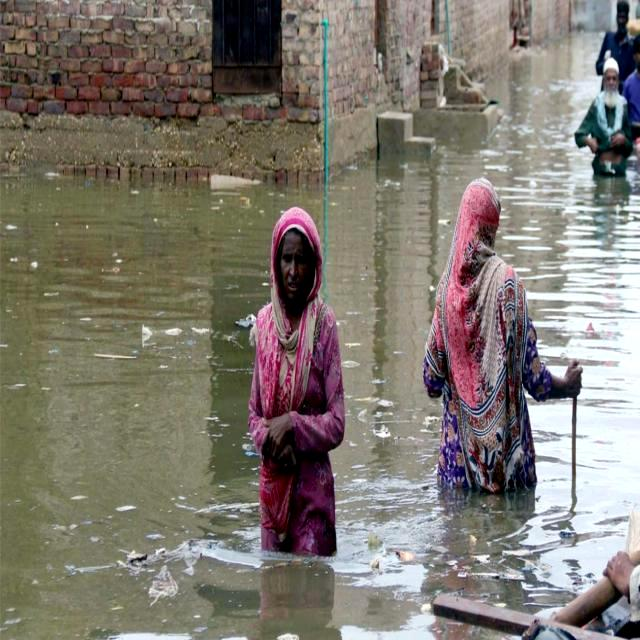civilian: (421, 170, 567, 494), (240, 197, 362, 568), (577, 50, 640, 188), (594, 0, 639, 82), (609, 30, 639, 130)
